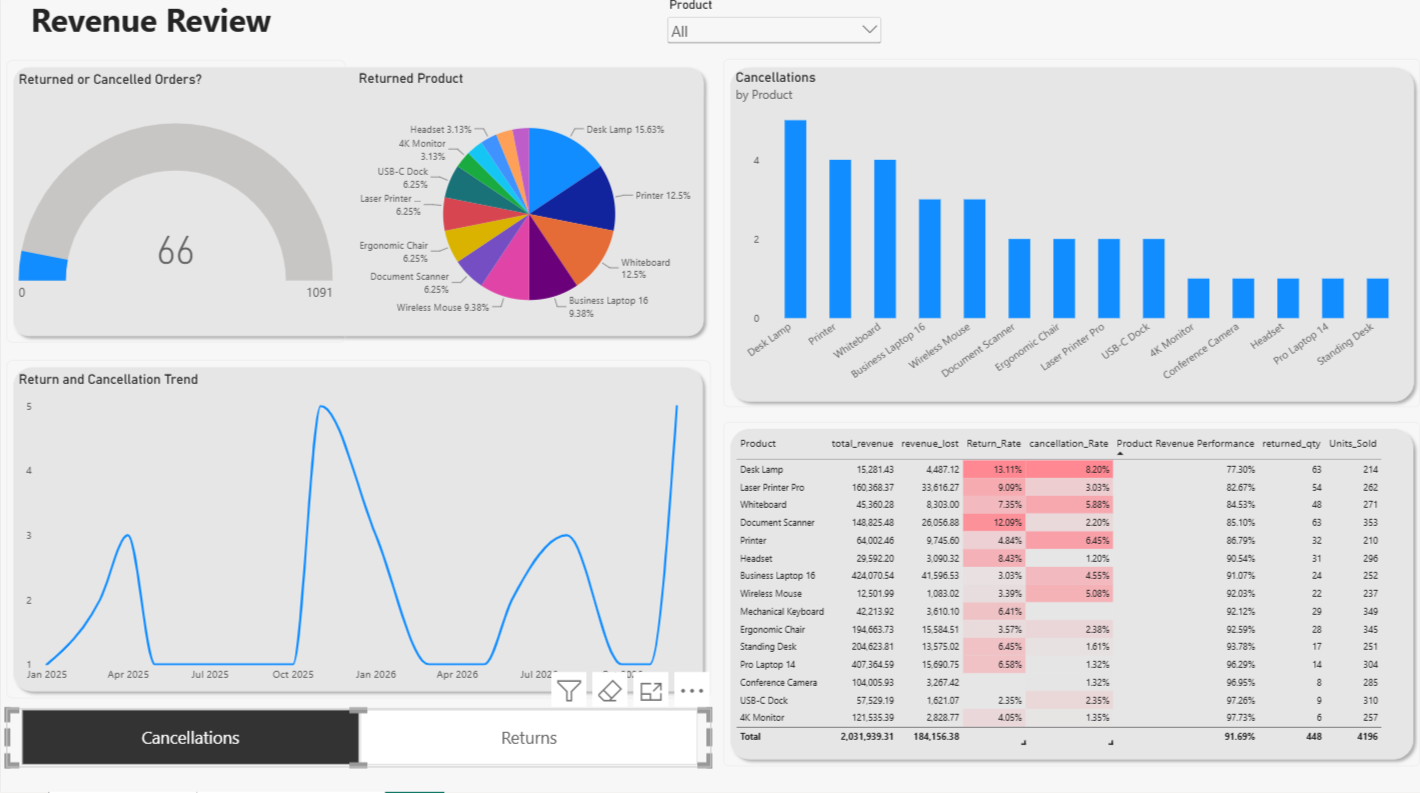

This screenshot's page, from the dashboard's own definition file:
{"tool":"powerbi","page":{"name":"Revenue review","canvas":[1920,1080],"ordinal":1},"visuals":[{"type":"shape","box":[8.7,496.9,950.4,456.4],"z":0},{"type":"shape","box":[976.4,580.6,941.7,465.1],"z":1000},{"type":"shape","box":[9.1,90.9,951.7,381.6],"z":2000},{"type":"shape","box":[976.7,90.9,942.6,470.2],"z":3000},{"type":"gauge","title":"Returned or Cancelled Orders?","fields":{"MaxValue":["Measure.order_count"],"Y":["Measure.Count of returns"]},"box":[9.1,90.9,458.8,381.6],"z":4000},{"type":"pieChart","title":"Returned Product","fields":{"Category":["product.Product"],"Y":["Measure.Count of cancellation"]},"box":[467.9,90.9,492.9,381.6],"z":5000},{"type":"lineChart","title":"Return and Cancellation Trend","fields":{"Category":["order_staging.Order_Date.Variation.Date Hierarchy.Year","order_staging.Order_Date.Variation.Date Hierarchy.Month"],"Y":["Measure.Count of cancellation"]},"box":[9.1,497.4,951.7,456.5],"z":6000},{"type":"columnChart","fields":{"Category":["product.Product"],"Y":["Measure.Count of cancellation"]},"box":[976.4,89.6,941.7,470.9],"z":7000},{"type":"tableEx","fields":{"Values":["order_staging.Product","Measure.total_revenue","Measure.revenue_lost","select","Measure.Return_Rate","select1","Measure.cancellation_Rate","Measure.Percentage Rev per Product","Measure.returned_qty","Measure.Units_Sold"]},"box":[976.4,580.6,941.7,465.1],"z":8000},{"type":"slicer","fields":{"Values":["Cancellations and returns.Cancellations and returns"]},"box":[8.7,967.7,953.3,78],"z":9000},{"type":"slicer","fields":{"Values":["product.Product"]},"box":[897.2,6.8,299.8,70.4],"z":10000},{"type":"textbox","box":[9.1,6.8,390.7,70.4],"z":11000}]}

Visuals, with their boxes in screenshot pixels (x1, y1, x2, y2), scaled from the page's 1920x1080 canvas onto the 1420x793 screenshot:
shape: [6, 365, 709, 700]
shape: [722, 426, 1419, 768]
shape: [7, 67, 711, 347]
shape: [722, 67, 1419, 412]
"Returned or Cancelled Orders?" gauge: [7, 67, 346, 347]
"Returned Product" pieChart: [346, 67, 711, 347]
"Return and Cancellation Trend" lineChart: [7, 365, 711, 700]
columnChart - product.Product x Measure.Count of cancellation: [722, 66, 1419, 412]
tableEx - order_staging.Product x Measure.total_revenue: [722, 426, 1419, 768]
slicer - Cancellations and returns.Cancellations and returns: [6, 711, 711, 768]
slicer - product.Product: [664, 5, 885, 57]
textbox: [7, 5, 296, 57]
